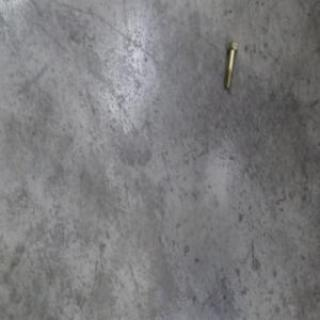Bolttrack_idkeyframe: (223, 41, 237, 90)
